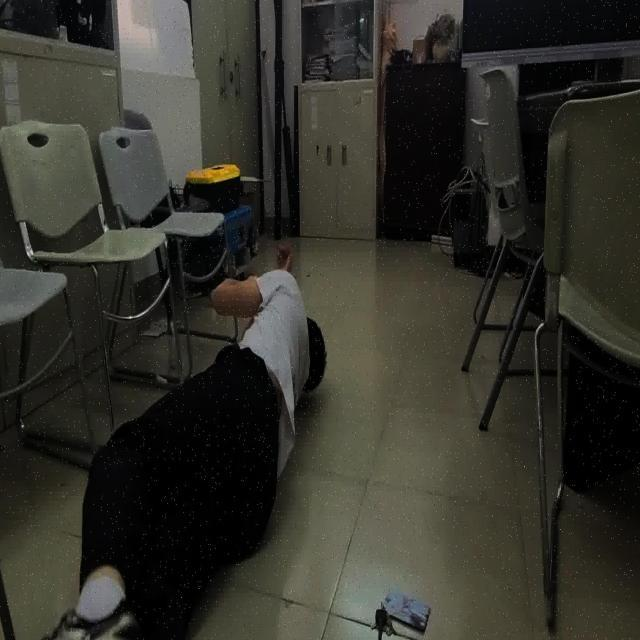fall: (32, 243, 330, 639)
